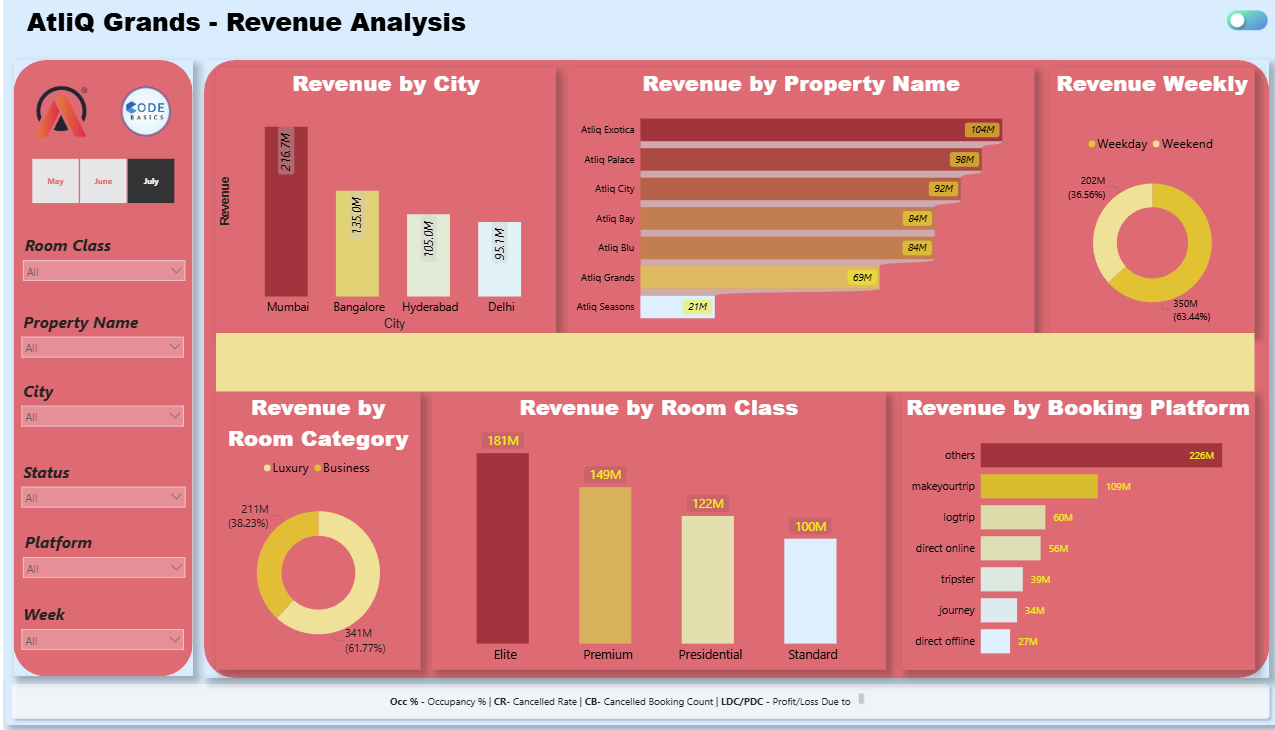

What the dashboard file says about the page in this screenshot:
{"tool":"powerbi","page":{"name":"Revenue Analysis ","canvas":[1900,1100],"ordinal":2},"visuals":[{"type":"shape","box":[5,1012.5,1895,70],"z":0},{"type":"textbox","box":[560,1030,730,35],"z":1000},{"type":"shape","box":[15,90,267.5,920],"z":2000},{"type":"image","box":[42.5,120,90,90],"z":3000},{"type":"image","box":[167.5,120,90,90],"z":4000},{"type":"textbox","box":[14.8,0,695.1,74.2],"z":5000},{"type":"slicer","fields":{"Values":["dim_rooms.room_class"]},"box":[25,350,252.5,70],"z":6000},{"type":"slicer","fields":{"Values":["dim_hotels.property_name"]},"box":[22.5,462.5,252.5,70],"z":7000},{"type":"slicer","fields":{"Values":["dim_hotels.city"]},"box":[22.5,567.5,252.5,70],"z":8000},{"type":"slicer","fields":{"Values":["fact_bookings.booking_status"]},"box":[22.5,687.5,255,70],"z":9000},{"type":"slicer","fields":{"Values":["fact_bookings.booking_platform"]},"box":[25,792.5,252.5,70],"z":10000},{"type":"slicer","fields":{"Values":["dim_date.weekday"]},"box":[22.5,900,252.5,70],"z":11000},{"type":"shape","box":[300,90,1590,922.5],"z":14000},{"type":"clusteredColumnChart","title":"Revenue by City","fields":{"Y":["key_resources.Revenue"],"Category":["dim_hotels.city"]},"box":[317.5,100,507.5,397.5],"z":15000},{"type":"donutChart","title":"Revenue Weekly ","fields":{"Y":["key_resources.Revenue"],"Category":["dim_date.day type"]},"box":[1562.5,100,305,397.5],"z":16000},{"type":"donutChart","title":"Revenue by Room Category","fields":{"Y":["key_resources.Revenue"],"Category":["dim_hotels.category"]},"box":[317.5,585,305,415],"z":17000},{"type":"clusteredBarChart","title":"Revenue by Booking Platform","fields":{"Y":["key_resources.Revenue"],"Category":["fact_bookings.booking_platform"]},"box":[1340,585,527.5,415],"z":18000},{"type":"barChart","title":"Revenue by Property Name","fields":{"Category":["dim_hotels.property_name"],"Y":["key_resources.Revenue"]},"box":[845,100,695,397.5],"z":19000},{"type":"slicer","fields":{"Values":["dim_date.mmm yy.Variation.Date Hierarchy.Month"]},"box":[22.5,235,252.5,70],"z":20000},{"type":"clusteredColumnChart","title":"Revenue by Room Class","fields":{"Y":["key_resources.Revenue"],"Category":["dim_rooms.room_class"]},"box":[640,585,677.5,415],"z":21000},{"type":"group","id":"g1","title":"Group 2","box":[317.5,0,1572.5,567.5],"z":23000},{"type":"shape","box":[317.5,497.5,1550,87.5],"z":24000},{"type":"shape","box":[317.5,532.5,1550,35],"z":28000,"group":"g1"},{"type":"shape","box":[726.9,2.5,1162.7,81.6],"z":29000,"group":"g1"},{"type":"actionButton","box":[1830,0,60,60],"z":29250,"group":"g1"},{"type":"image","box":[1624.8,4.2,110,77],"z":29500,"group":"g1"},{"type":"image","box":[1409.8,4.2,110,77],"z":29750,"group":"g1"},{"type":"image","box":[1194.8,4.2,110,77],"z":29875,"group":"g1"},{"type":"image","box":[979.8,4.2,110,77],"z":29937,"group":"g1"},{"type":"image","box":[757.3,4.2,110,77],"z":29968,"group":"g1"}]}

Visuals, with their boxes in screenshot pixels (x1, y1, x2, y2), scaled from the page's 1900x1100 canvas onto the 1275x730 screenshot:
shape: <box>3,672,1274,718</box>
textbox: <box>376,684,866,707</box>
shape: <box>10,60,190,670</box>
image: <box>29,80,89,139</box>
image: <box>112,80,173,139</box>
textbox: <box>10,0,476,49</box>
slicer - dim_rooms.room_class: <box>17,232,186,279</box>
slicer - dim_hotels.property_name: <box>15,307,185,353</box>
slicer - dim_hotels.city: <box>15,377,185,423</box>
slicer - fact_bookings.booking_status: <box>15,456,186,503</box>
slicer - fact_bookings.booking_platform: <box>17,526,186,572</box>
slicer - dim_date.weekday: <box>15,597,185,644</box>
shape: <box>201,60,1268,672</box>
"Revenue by City" clusteredColumnChart: <box>213,66,554,330</box>
"Revenue Weekly " donutChart: <box>1049,66,1253,330</box>
"Revenue by Room Category" donutChart: <box>213,388,418,664</box>
"Revenue by Booking Platform" clusteredBarChart: <box>899,388,1253,664</box>
"Revenue by Property Name" barChart: <box>567,66,1033,330</box>
slicer - dim_date.mmm yy.Variation.Date Hierarchy.Month: <box>15,156,185,202</box>
"Revenue by Room Class" clusteredColumnChart: <box>429,388,884,664</box>
"Group 2" group: <box>213,0,1268,377</box>
shape: <box>213,330,1253,388</box>
shape: <box>213,353,1253,377</box>
shape: <box>488,2,1268,56</box>
actionButton: <box>1228,0,1268,40</box>
image: <box>1090,3,1164,54</box>
image: <box>946,3,1020,54</box>
image: <box>802,3,876,54</box>
image: <box>657,3,731,54</box>
image: <box>508,3,582,54</box>
